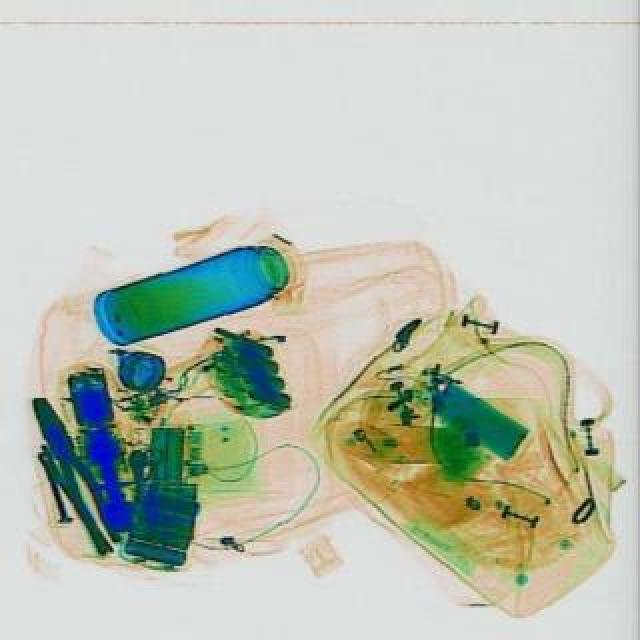wrench: (26, 390, 134, 556)
